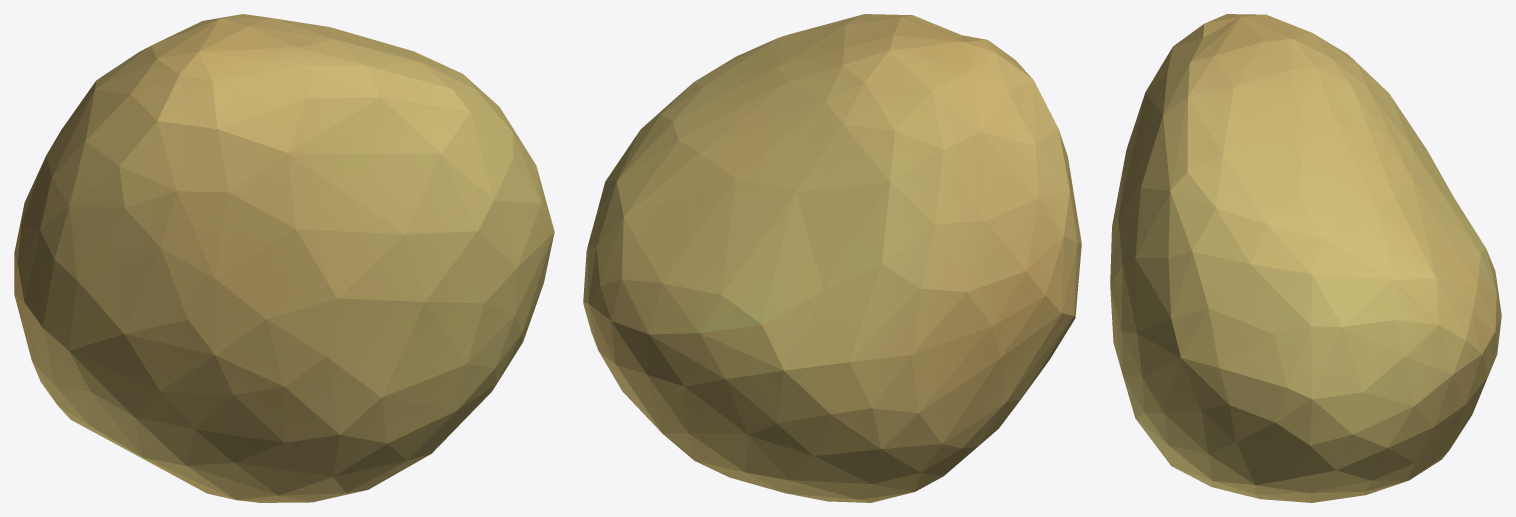
The model's file is nodes_lymph_gastric_LP.glb.
3 views of the same model, side by side, from view 1: azimuth 30°, elevation 25°; view 2: azimuth 150°, elevation 25°; view 3: azimuth 270°, elevation 25° (orthographic). The views are drawn at different scales.
Parts seen in each view (by area): view 1: nodes_lymph_gastric_LP; view 2: nodes_lymph_gastric_LP; view 3: nodes_lymph_gastric_LP.
Boxes of the visible parts, box(x1,y1,x2,y2) form: nodes_lymph_gastric_LP: box(14, 14, 554, 502); nodes_lymph_gastric_LP: box(583, 14, 1081, 502); nodes_lymph_gastric_LP: box(1110, 14, 1501, 502).
Size of the model in its own units: 0.000192 by 0.000177 by 0.000148.
1 material, 1 textured.
